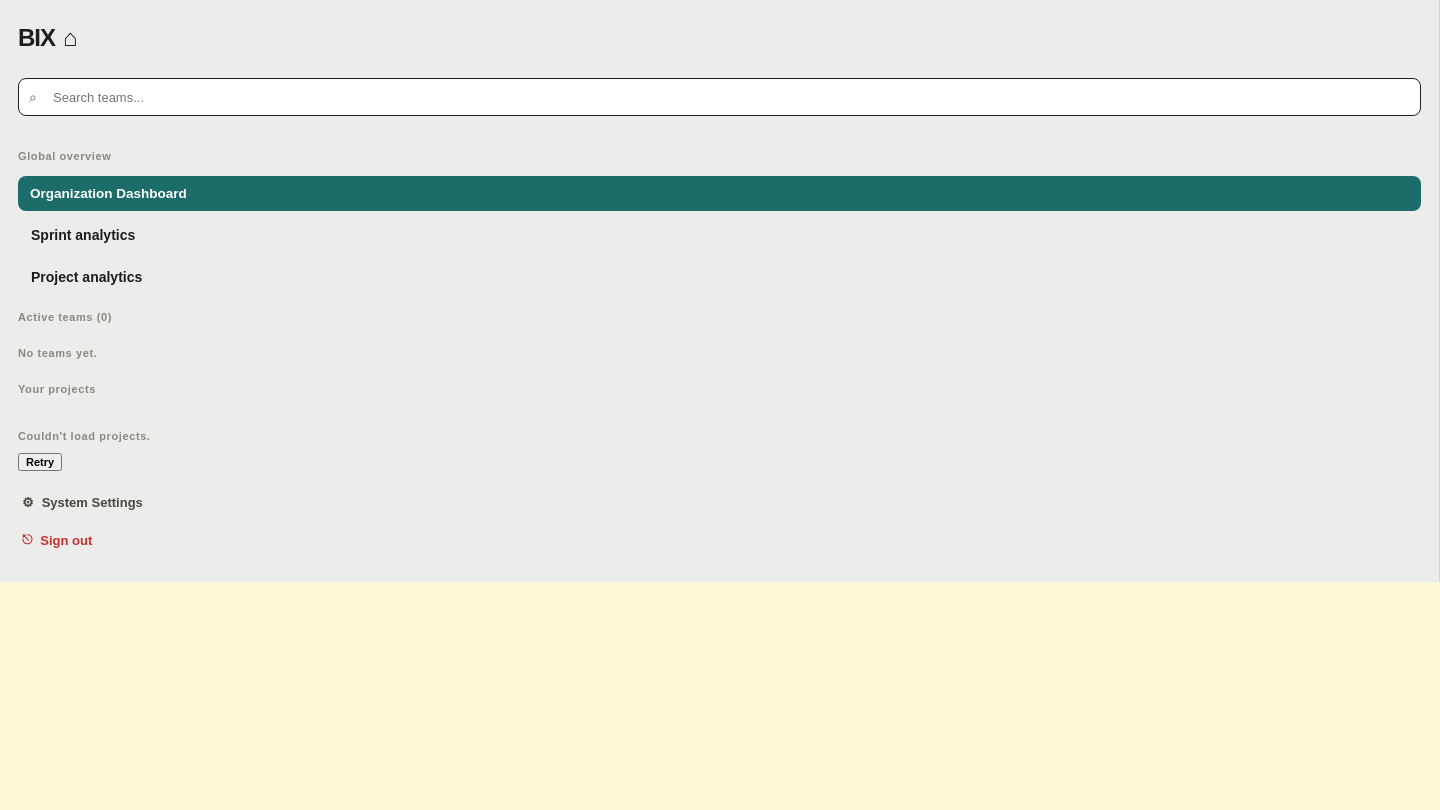
AdminSidebar - Your projects (US-04c) › offers Retry after a failed load, and a successful retry shows the projects
Click the button "Retry" at (40, 462), box top-left (18, 453), bottom-right (62, 471)
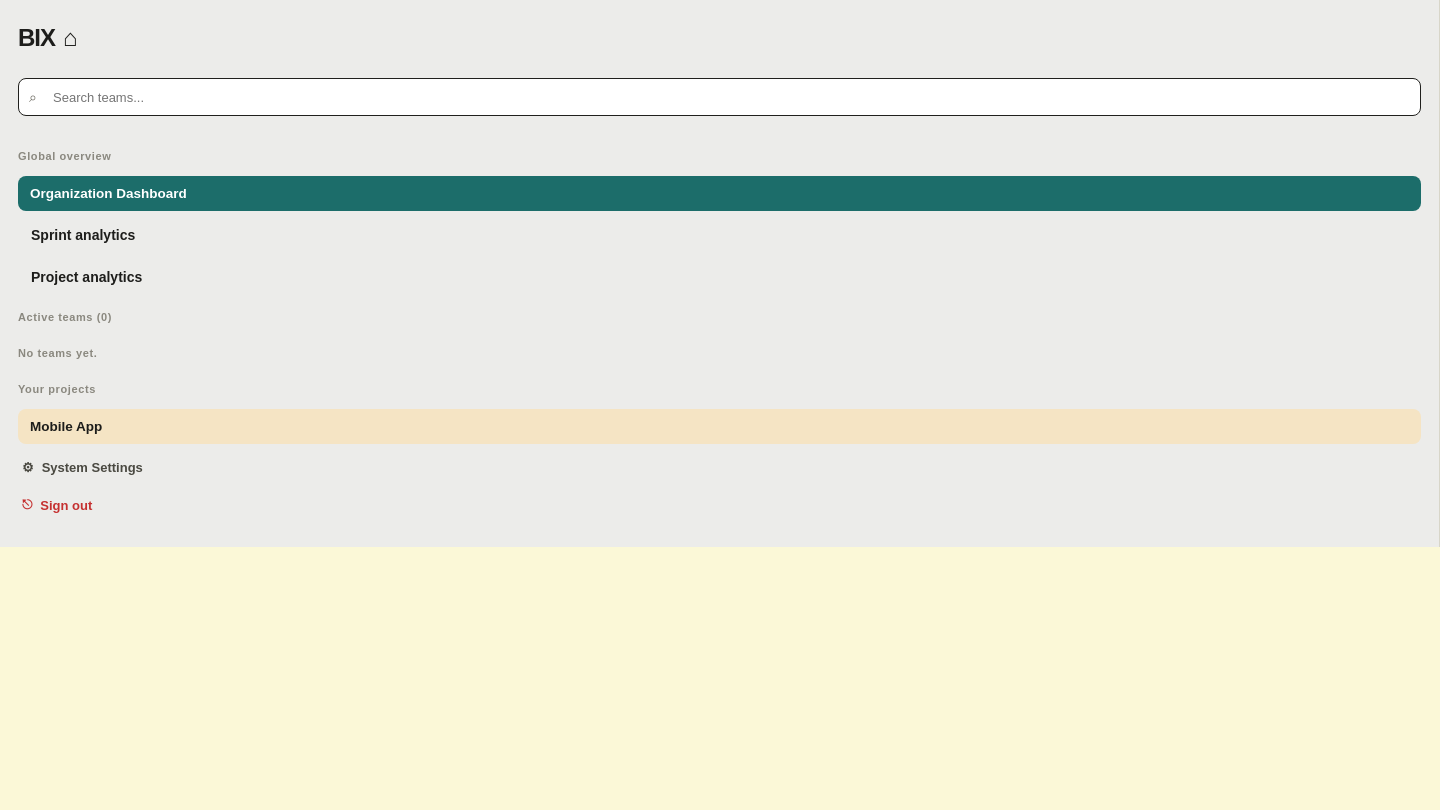
Expected: the link "Mobile App" is shown, top-left (18, 409), bottom-right (1421, 444)
Expected: the message "Couldn't load projects. Retry" is gone
